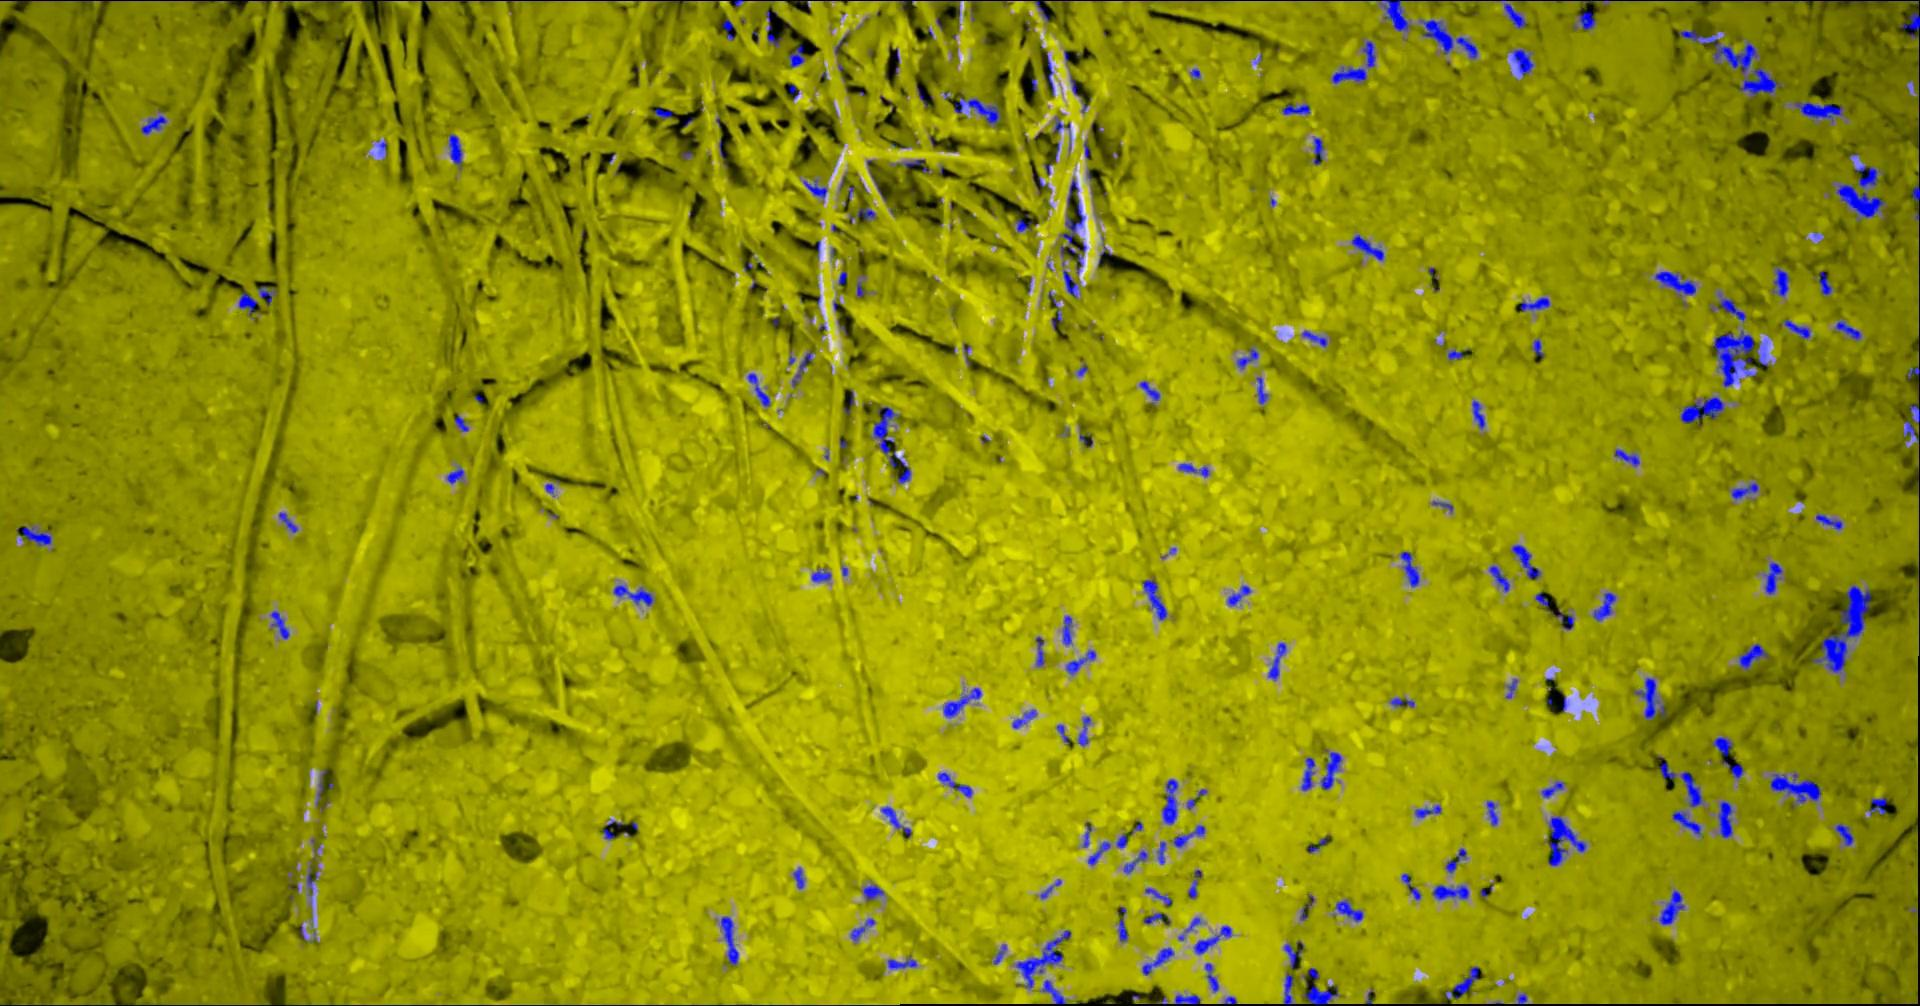ant: (1015, 930, 1070, 987), (872, 406, 910, 483), (1418, 19, 1477, 58), (1060, 196, 1084, 273), (1548, 815, 1585, 865), (1769, 774, 1820, 801), (1713, 735, 1743, 779), (954, 97, 1001, 124), (1634, 677, 1665, 718), (1680, 396, 1723, 423), (942, 687, 982, 716), (1192, 925, 1230, 954), (1444, 967, 1478, 998), (1511, 544, 1540, 579), (1710, 292, 1745, 321), (1655, 271, 1695, 295), (880, 807, 910, 838), (1142, 579, 1166, 619), (1796, 102, 1843, 121), (1142, 948, 1173, 976), (720, 916, 738, 965), (1382, 0, 1410, 30), (1351, 234, 1383, 260), (937, 772, 971, 796), (613, 584, 653, 605), (1658, 890, 1683, 923), (1738, 643, 1768, 669), (1321, 751, 1341, 789), (1680, 771, 1702, 807), (747, 373, 770, 406), (1501, 0, 1528, 28), (1671, 810, 1702, 835), (791, 351, 811, 386), (1302, 984, 1337, 1005), (1065, 650, 1095, 674), (17, 525, 51, 545), (1162, 779, 1177, 824), (1173, 824, 1204, 847), (1399, 551, 1418, 587), (1267, 641, 1285, 680), (1592, 592, 1615, 620), (1041, 979, 1065, 1005), (1902, 404, 1919, 441), (1335, 899, 1363, 921), (764, 10, 781, 46), (1331, 66, 1366, 83), (1764, 561, 1782, 594), (1283, 940, 1303, 968), (1717, 800, 1732, 837), (1123, 850, 1147, 873), (1048, 290, 1062, 329), (1512, 48, 1533, 75), (1432, 884, 1468, 899), (270, 610, 290, 638), (1087, 841, 1110, 864), (850, 918, 874, 940), (1445, 847, 1465, 873), (1783, 319, 1810, 338), (1835, 320, 1862, 339), (1401, 873, 1420, 899), (1657, 754, 1675, 782), (1490, 565, 1509, 591), (448, 133, 462, 168), (1901, 11, 1919, 38), (140, 116, 166, 133), (1731, 481, 1757, 499), (1144, 888, 1171, 906), (1773, 268, 1789, 296), (1300, 757, 1314, 790), (237, 291, 257, 315), (1225, 586, 1250, 605), (1012, 709, 1036, 728), (1614, 448, 1639, 466), (1062, 271, 1078, 297), (1236, 348, 1257, 368), (1815, 513, 1843, 528), (257, 285, 277, 305), (1139, 380, 1159, 400), (1553, 608, 1573, 629), (602, 821, 623, 840), (1178, 464, 1208, 478), (1187, 869, 1201, 898), (1204, 962, 1218, 991), (803, 179, 825, 197), (1470, 400, 1484, 428), (850, 207, 875, 222), (1519, 297, 1549, 310), (278, 512, 297, 532), (1835, 823, 1853, 845), (1077, 716, 1090, 746), (1302, 330, 1326, 345), (1032, 173, 1050, 193), (1117, 906, 1128, 941), (1363, 39, 1375, 67), (1542, 781, 1564, 796), (1577, 11, 1595, 30), (1299, 895, 1313, 920), (306, 862, 316, 895), (862, 884, 883, 901), (1283, 972, 1293, 1005), (1034, 0, 1049, 22), (1045, 52, 1053, 95), (1415, 804, 1440, 817), (789, 44, 803, 67), (1818, 271, 1832, 293), (1868, 796, 1886, 814), (1256, 376, 1267, 403), (446, 466, 463, 483), (1486, 800, 1497, 826), (1281, 104, 1309, 114), (721, 18, 734, 39), (1313, 137, 1323, 164), (1016, 213, 1031, 231), (1143, 912, 1166, 923), (1062, 615, 1070, 644), (888, 959, 916, 968), (1390, 697, 1415, 708), (1175, 995, 1199, 1005), (653, 107, 672, 119), (811, 568, 830, 580), (792, 868, 804, 888), (455, 414, 469, 431), (1082, 822, 1091, 847), (1035, 636, 1043, 666), (1531, 338, 1543, 356), (1535, 592, 1549, 606), (1910, 180, 1919, 202), (1848, 0, 1919, 3), (1079, 432, 1092, 446), (1157, 841, 1164, 864), (1116, 833, 1128, 847), (1448, 349, 1462, 359)
